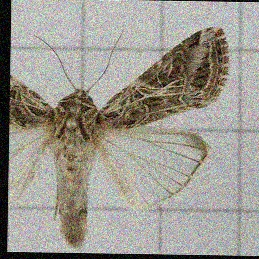Spodoptera litura: (9, 24, 229, 248)
